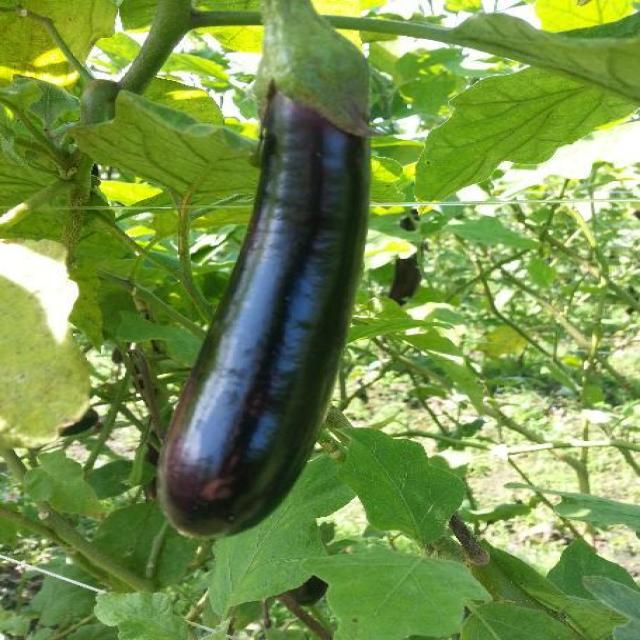eggplant: (160, 12, 376, 537)
